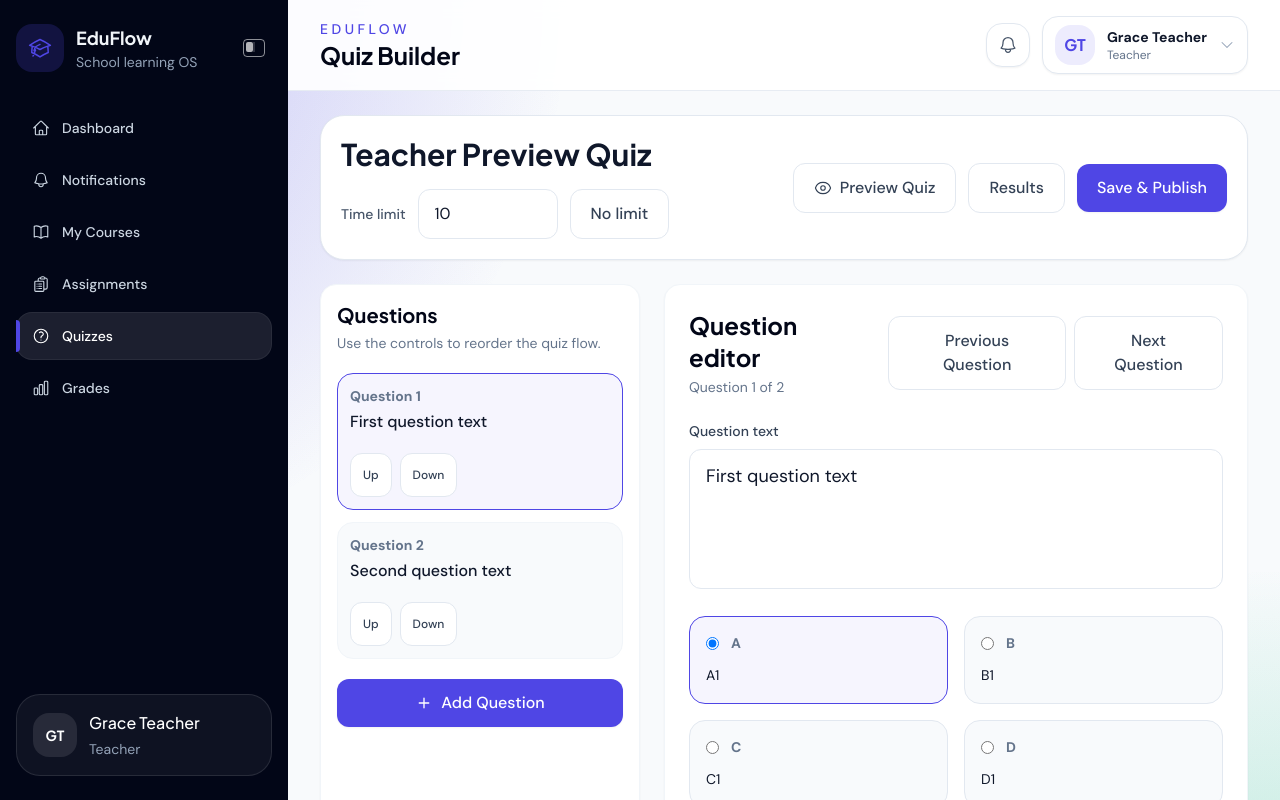
Test case: QuizBuilderPage › preview shows the full quiz, not only the first question
Click the button "Preview Quiz".
click(875, 188)  # box [793,162,956,212]
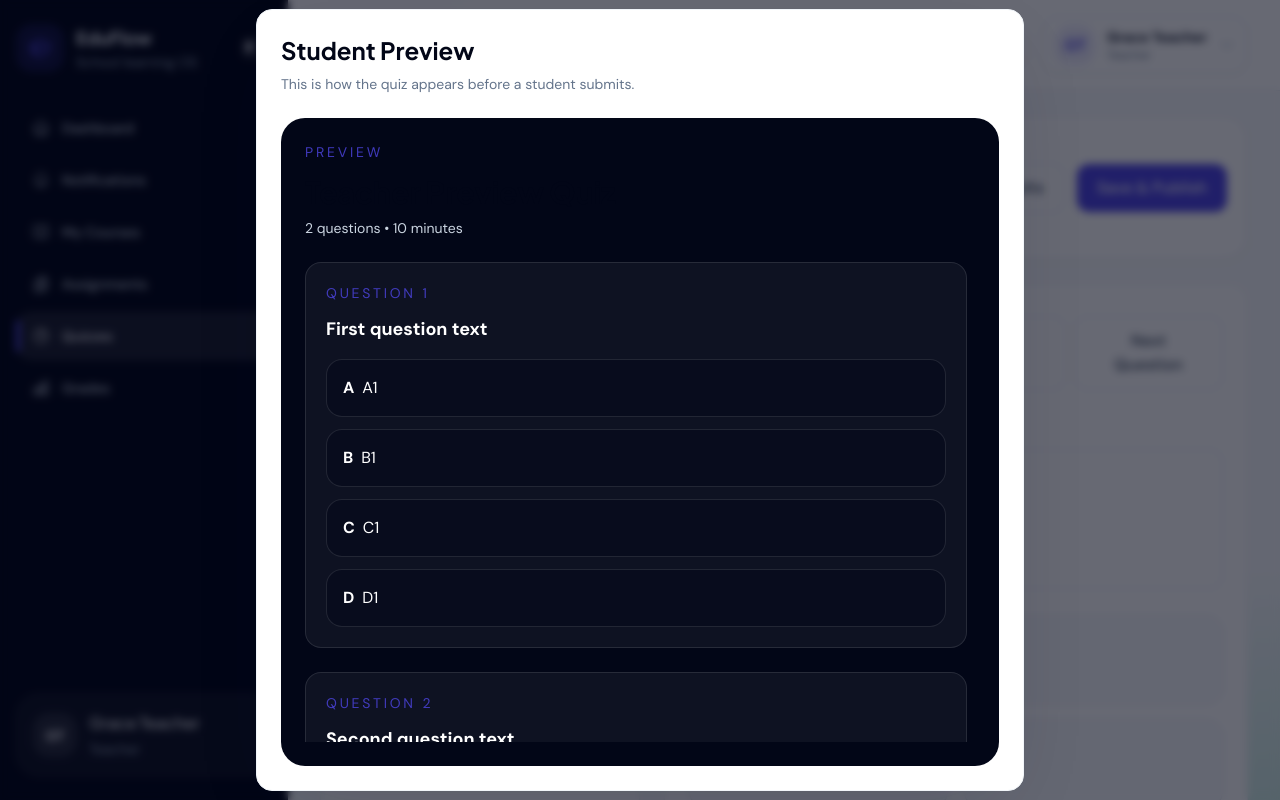
Expected: the text "First question text" is shown, [326,317,488,341]
Expected: the text "Second question text" is shown, [326,727,515,742]
